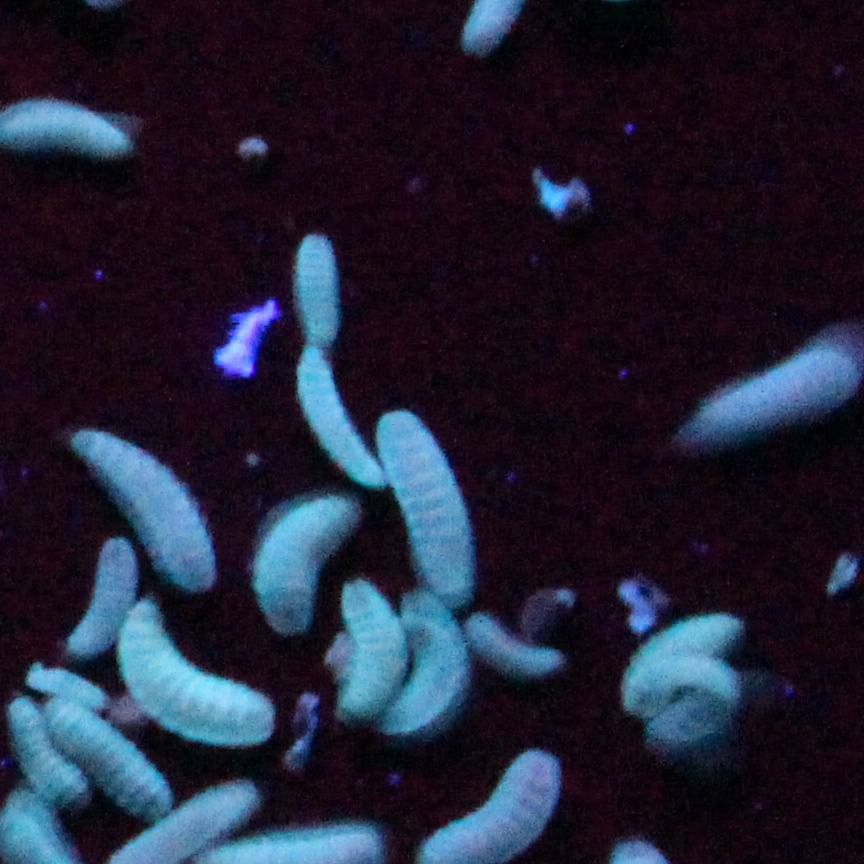larve: (118, 597, 279, 749), (80, 433, 220, 606), (387, 413, 480, 613), (687, 346, 854, 433), (286, 346, 382, 497), (620, 613, 747, 726), (53, 691, 166, 810), (263, 497, 353, 633), (382, 604, 457, 742), (344, 588, 392, 723), (466, 613, 563, 675), (294, 240, 340, 353)
